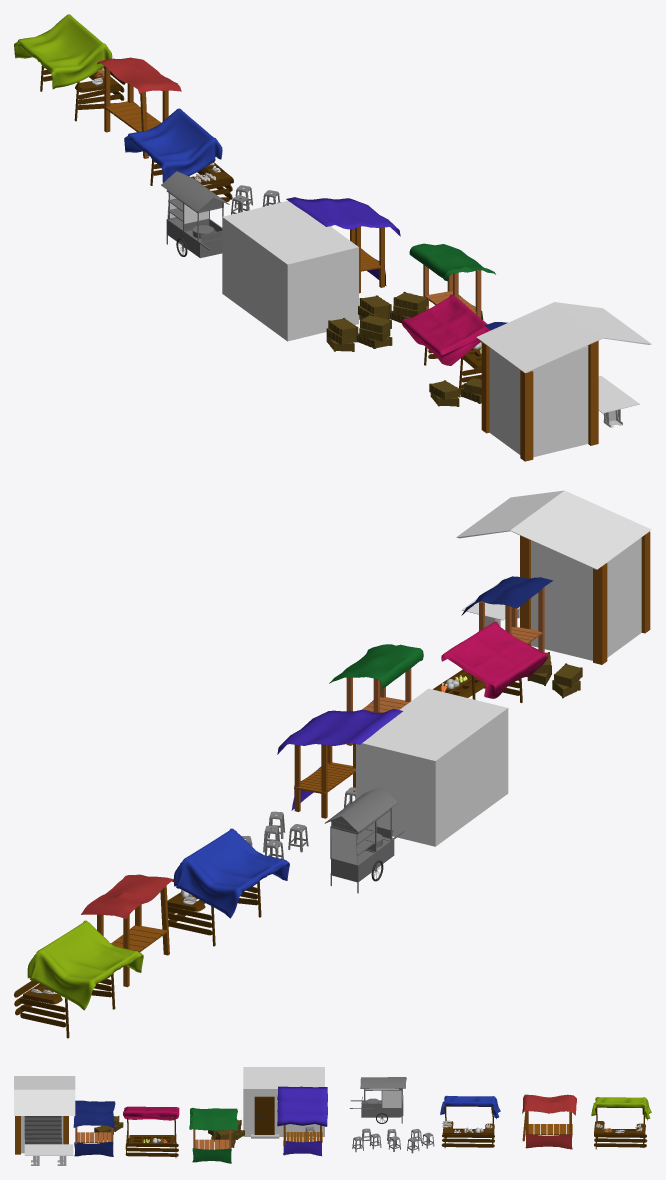
Rendered from feira_cenario.fbx.
3 renders of one model, top to bottom at view 1: azimuth 30°, elevation 25°; view 2: azimuth 150°, elevation 25°; view 3: azimuth 270°, elevation 25°, orthographic. The views are drawn at different scales.
Visible parts, largest first — view 1: Cube.003, Cube.004, Plane.009, pCylinder2, pCylinder2_blinn2_0.001, pPlane7_outputCloth6, Cube.033, Plane.005, Plane.008, Plane.006, Object004, Box001 (+6 smaller); view 2: Cube.003, Cube.004, Plane.009, pCylinder2, pCylinder2_blinn2_0.001, pPlane7_outputCloth6, Cube.033, Plane.005, Plane.006, Plane.008, Plane.007, Object004 (+6 smaller); view 3: Cube.003, Plane.009, Plane.005, Cube.031, Plane.008, Plane.007, Plane.006, pPlane7_outputCloth6, Cube.023, pCylinder2, pCube25, pCylinder2_blinn2_0.001 (+21 smaller).
Boxes of the visible parts, x1,y1,x2,y2 form: Cube.003: (222,201,358,341); Cube.004: (489,345,588,457); Plane.009: (476,302,651,372); pCylinder2: (124,108,222,185); pCylinder2_blinn2_0.001: (14,14,112,89); pPlane7_outputCloth6: (401,294,490,394); Cube.033: (481,340,598,461); Plane.005: (286,197,400,236); Plane.008: (409,243,495,281); Plane.006: (97,57,181,93); Object004: (161,171,229,211); Box001: (166,218,222,258); Cube.003: (356,688,508,846); Cube.004: (531,537,641,660); Plane.009: (456,490,651,569); pCylinder2: (173,828,289,946); pCylinder2_blinn2_0.001: (27,920,143,1010); pPlane7_outputCloth6: (441,621,548,702); Cube.033: (520,531,650,664); Plane.005: (277,708,402,754); Plane.006: (81,874,174,918); Plane.008: (329,644,423,689); Plane.007: (461,576,552,615); Object004: (324,786,397,832); Cube.003: (243,1067,324,1136); Plane.009: (14,1076,75,1115); Plane.005: (277,1086,327,1126); Cube.031: (24,1116,61,1144); Plane.008: (189,1108,238,1130); Plane.007: (73,1100,115,1128); Plane.006: (522,1094,576,1115); pPlane7_outputCloth6: (123,1106,179,1143); Cube.023: (254,1096,274,1134); pCylinder2: (440,1095,500,1138); pCube25: (125,1129,178,1157); pCylinder2_blinn2_0.001: (591,1097,651,1120).
Bounding box in the file's own units: 1292 × 767 × 6299.
